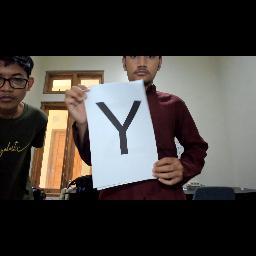y: (92, 97, 144, 157)
